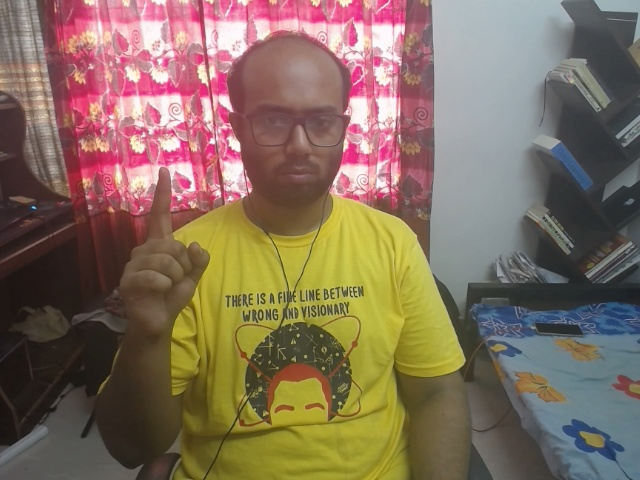one: (89, 150, 235, 331)
